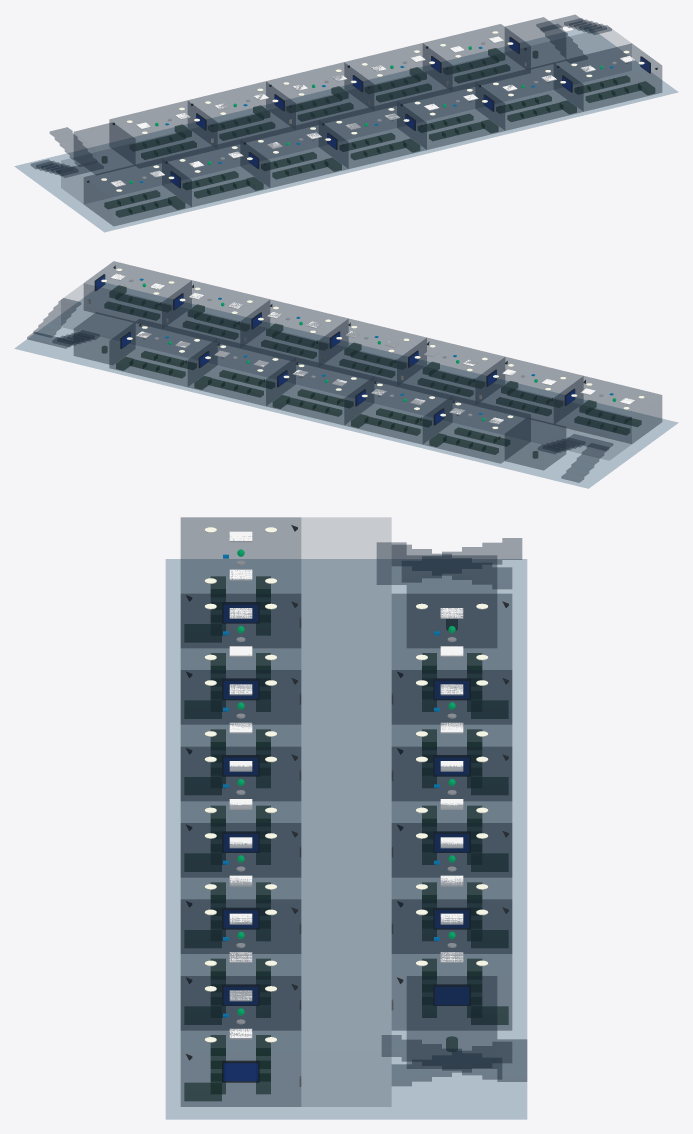
File: Tang_2.glb
3 renders of one model, top to bottom at view 1: azimuth 30°, elevation 25°; view 2: azimuth 150°, elevation 25°; view 3: azimuth 270°, elevation 25°, orthographic. The views are drawn at different scales.
Parts seen in each view (by area): view 1: Arch:FLOOR, Arch:CORRIDOR, Arch:WALL_L3-B1, Arch:WALL_L3-T1, Arch:WALL_L3-B3, Arch:WALL_L3-B4, Arch:WALL_L3-B6, Arch:WALL_L3-B7, Arch:WALL_L3-B2, Arch:WALL_L3-B5, Arch:WALL_L3-T3, Arch:WALL_L3-T4 (+4 smaller); view 2: Arch:FLOOR, Arch:CORRIDOR, Arch:WALL_L3-T1, Arch:WALL_L3-B1, Arch:WALL_L3-T2, Arch:WALL_L3-T5, Arch:WALL_L3-T4, Arch:WALL_L3-T3, Arch:WALL_L3-B4, Arch:WALL_L3-B5, Arch:WALL_L3-B3, Arch:WALL_L3-B6 (+4 smaller); view 3: Arch:FLOOR, Arch:CORRIDOR, Arch:WALL_L3-T5, Arch:WALL_L3-B7, Arch:RESTROOM (×2), Arch:WALL_L3-B6, Arch:WALL_L3-T2, Arch:WALL_L3-B3, Arch:WALL_L3-T4, Arch:WALL_L3-T3, Arch:WALL_L3-B4, Arch:WALL_L3-B5 (+4 smaller).
Boxes of the visible parts, x1=… form: Arch:FLOOR: x1=15, y1=29, x2=677, y2=231; Arch:CORRIDOR: x1=61, y1=27, x2=630, y2=203; Arch:WALL_L3-B1: x1=84, y1=158, x2=191, y2=225; Arch:WALL_L3-T1: x1=109, y1=100, x2=217, y2=167; Arch:WALL_L3-B3: x1=240, y1=120, x2=348, y2=187; Arch:WALL_L3-B4: x1=319, y1=101, x2=426, y2=168; Arch:WALL_L3-B6: x1=475, y1=63, x2=583, y2=130; Arch:WALL_L3-B7: x1=554, y1=43, x2=661, y2=111; Arch:WALL_L3-B2: x1=162, y1=139, x2=269, y2=206; Arch:WALL_L3-B5: x1=397, y1=82, x2=504, y2=149; Arch:WALL_L3-T3: x1=266, y1=62, x2=373, y2=129; Arch:WALL_L3-T4: x1=344, y1=43, x2=452, y2=110; Arch:FLOOR: x1=15, y1=283, x2=677, y2=488; Arch:CORRIDOR: x1=61, y1=284, x2=631, y2=459; Arch:WALL_L3-T1: x1=423, y1=395, x2=530, y2=463; Arch:WALL_L3-B1: x1=554, y1=376, x2=661, y2=443; Arch:WALL_L3-T2: x1=344, y1=376, x2=452, y2=444; Arch:WALL_L3-T5: x1=109, y1=319, x2=217, y2=386; Arch:WALL_L3-T4: x1=188, y1=338, x2=295, y2=405; Arch:WALL_L3-T3: x1=266, y1=357, x2=373, y2=425; Arch:WALL_L3-B4: x1=319, y1=319, x2=426, y2=386; Arch:WALL_L3-B5: x1=240, y1=299, x2=348, y2=366; Arch:WALL_L3-B3: x1=397, y1=338, x2=504, y2=405; Arch:WALL_L3-B6: x1=162, y1=280, x2=269, y2=347; Arch:FLOOR: x1=166, y1=559, x2=526, y2=1119; Arch:CORRIDOR: x1=302, y1=518, x2=390, y2=1106; Arch:WALL_L3-T5: x1=392, y1=899, x2=511, y2=1030; Arch:WALL_L3-B7: x1=181, y1=976, x2=300, y2=1106; Arch:RESTROOM (×2): x1=407, y1=555, x2=496, y2=1068; Arch:WALL_L3-B6: x1=181, y1=899, x2=300, y2=1030; Arch:WALL_L3-T2: x1=392, y1=670, x2=511, y2=800; Arch:WALL_L3-B3: x1=181, y1=670, x2=300, y2=800; Arch:WALL_L3-T4: x1=392, y1=823, x2=511, y2=953; Arch:WALL_L3-T3: x1=392, y1=747, x2=511, y2=877; Arch:WALL_L3-B4: x1=181, y1=747, x2=300, y2=877; Arch:WALL_L3-B5: x1=181, y1=823, x2=300, y2=953.
Bounding box in the file's own units: 88 × 4.01 × 24.
